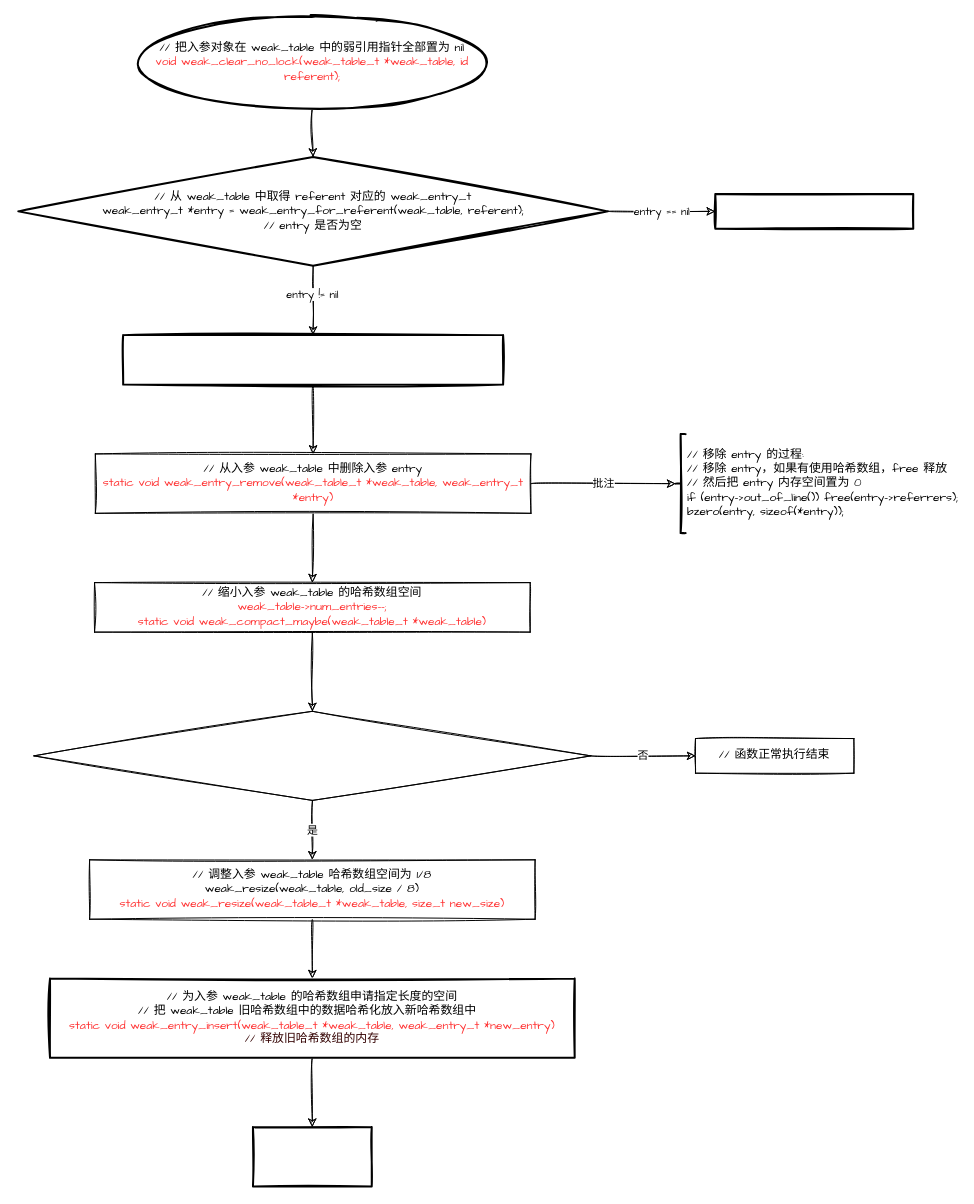
The diagram is 974 pixels wide and 1204 high, and some of its shapes have lost their labels. The centre of each missing label's shape, as x and y in pixels:
// return；函数正常结束执行: (814,211)
// 循环把 entry 的定长数组或者哈希数组中的弱引用指针置为 nil *referrer = nil;: (313,359)
// 是否符合缩小条件 old_size >= 1024 && old_size / 16 >= weak_table->num_entries: (312,755)
函数正常执行结束: (311,1156)
